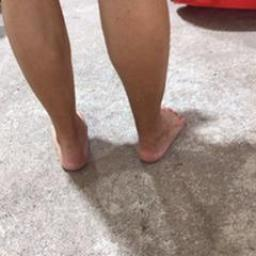Back View -Both Feet-: (27, 88, 190, 182)
